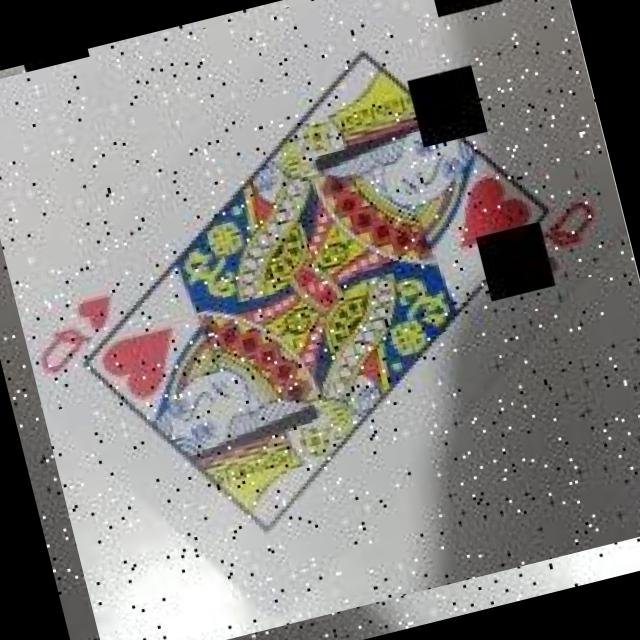Queen of hearts: (32, 0, 616, 625)
